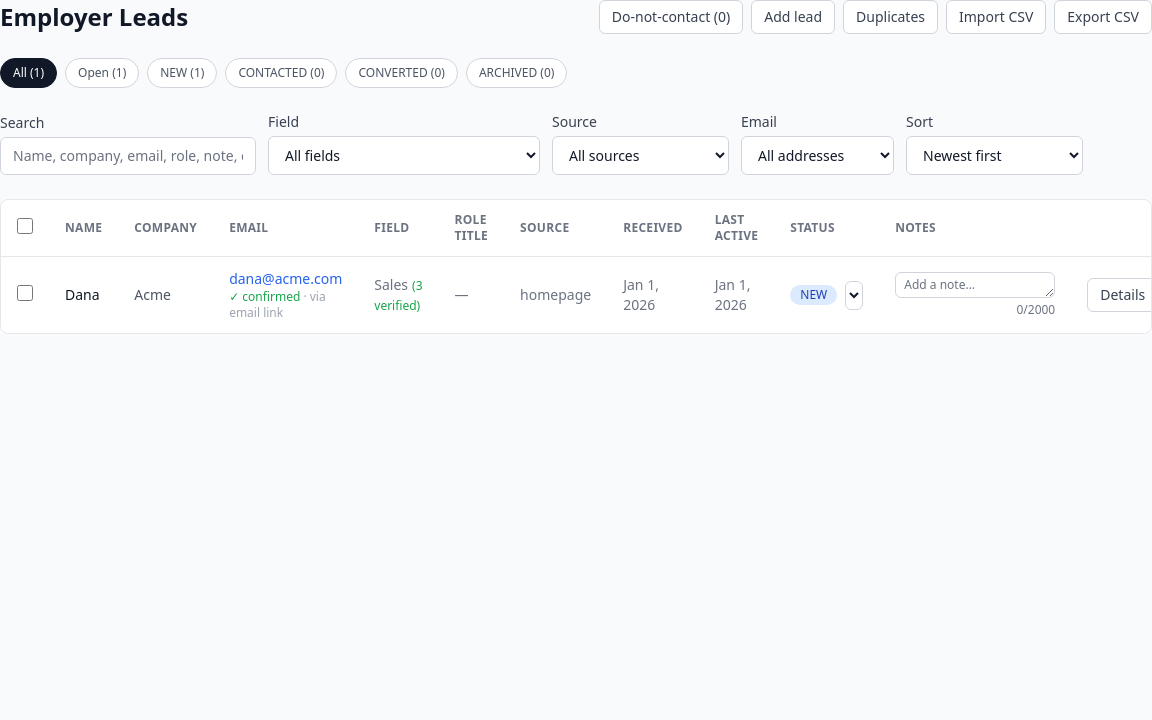
Test: Duplicates: merge is previewed first › the first click asks for a dry run and shows the result and what would be lost; the second merges
Click the button "Duplicates" at (890, 17), box [843,0,938,34]
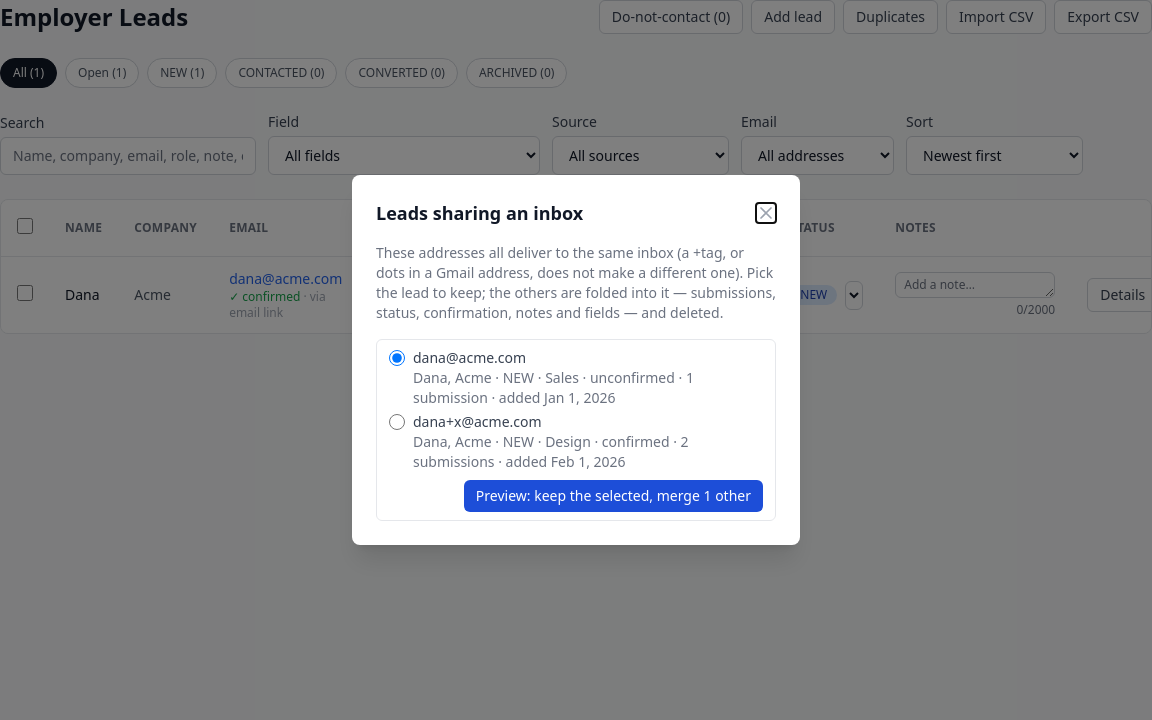
Click the button "Preview: keep the selected, merge 1 other" at (613, 496), box [464,480,763,512]
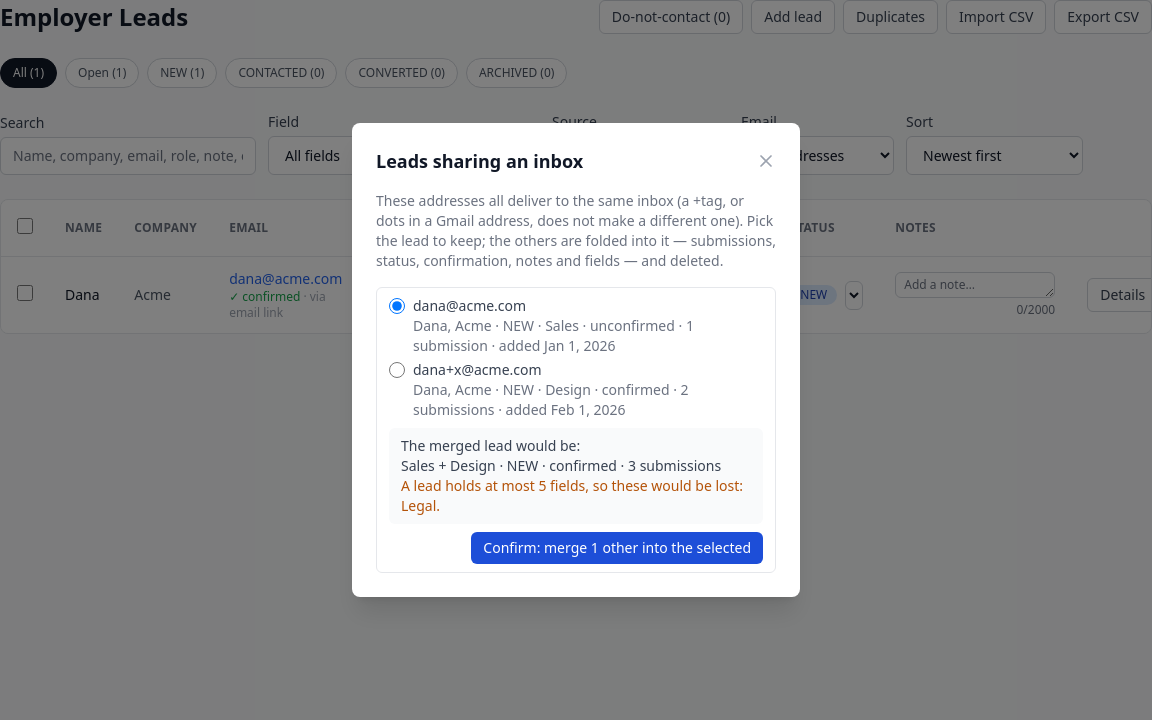
Now the element with test id "merge-preview" shows "3 submissions", box [389,428,763,524]
Click the button "Confirm: merge 1 other into the selected" at (617, 548), box [471,532,763,564]
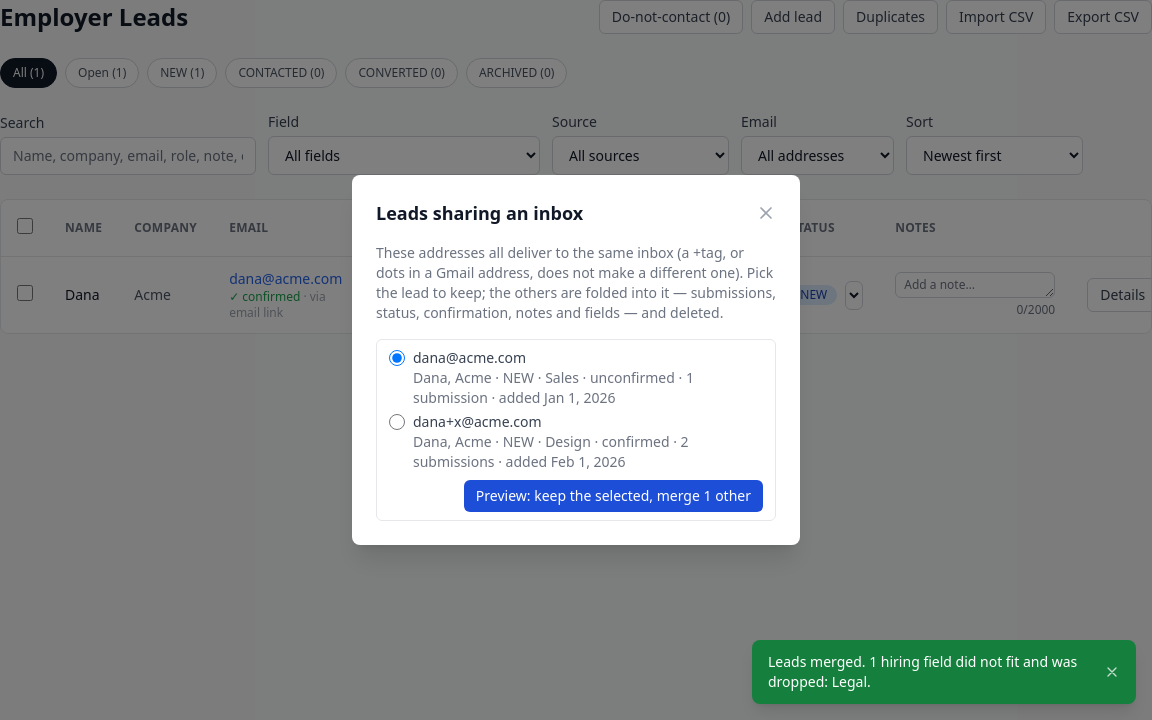
Now the text "did not fit and was dropped: Legal" is shown, box [768,652,1077,691]
